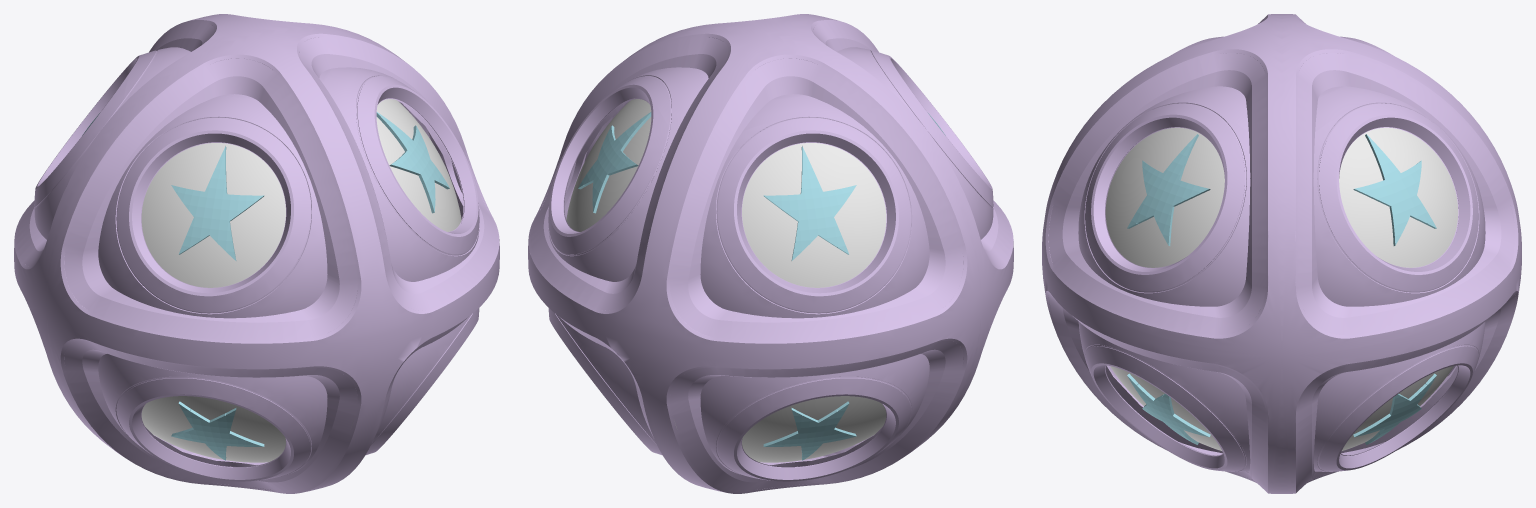
3 views of the same model, side by side, from view 1: azimuth 30°, elevation 25°; view 2: azimuth 150°, elevation 25°; view 3: azimuth 270°, elevation 25° (orthographic).
Parts seen in each view (by area): view 1: Kit__08_Detail_18, 球体, 球体.001; view 2: Kit__08_Detail_18, 球体, 球体.001; view 3: Kit__08_Detail_18, 球体, 球体.001.
Part boxes in pixels (box(x1,y1,x2,y2)): Kit__08_Detail_18: box(14, 14, 499, 493); 球体: box(141, 99, 461, 462); 球体.001: box(82, 112, 449, 460); Kit__08_Detail_18: box(528, 14, 1013, 493); 球体: box(566, 99, 886, 462); 球体.001: box(578, 112, 945, 460); Kit__08_Detail_18: box(1042, 14, 1521, 493); 球体: box(1105, 127, 1458, 450); 球体.001: box(1127, 134, 1436, 444).
Size of the model in its own units: 220 by 220 by 220.
